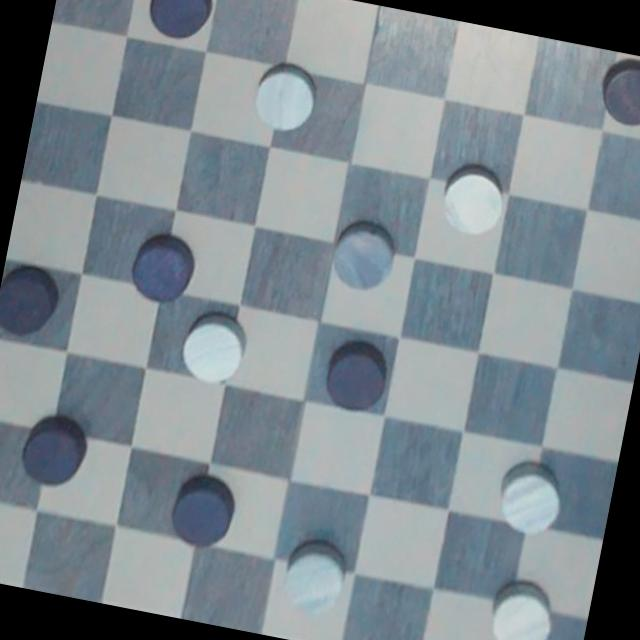BOARD: (0, 0, 640, 640)
black: (10, 403, 95, 498), (158, 466, 246, 556), (315, 332, 402, 419), (124, 215, 200, 312), (0, 256, 70, 348), (139, 0, 218, 47), (595, 53, 640, 132)
white: (269, 532, 365, 623), (430, 160, 512, 247), (175, 306, 254, 396), (491, 455, 568, 540), (325, 214, 402, 298), (248, 57, 322, 140), (480, 577, 564, 640)
